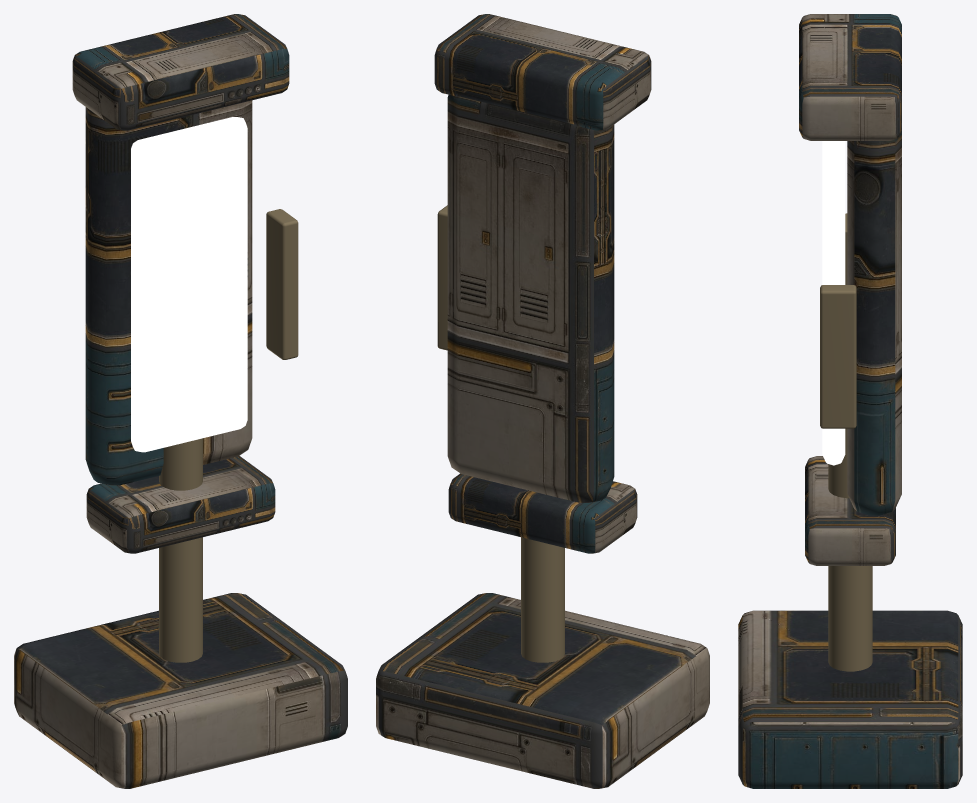
File: hp_light_residential_lamp_white.glb
3 views of the same model, side by side, from view 1: azimuth 30°, elevation 25°; view 2: azimuth 150°, elevation 25°; view 3: azimuth 270°, elevation 25° (orthographic).
Parts seen in each view (by area): view 1: weighted_floor_base, front_glowing_lens, lamp_back_housing, top_cap_dark, bottom_cap_dark, vertical_service_spine, small_side_handle; view 2: lamp_back_housing, weighted_floor_base, top_cap_dark, bottom_cap_dark, vertical_service_spine, small_side_handle; view 3: weighted_floor_base, lamp_back_housing, top_cap_dark, bottom_cap_dark, vertical_service_spine, small_side_handle, front_glowing_lens.
Boxes of the visible parts, x1,y1,x2,y2 form: weighted_floor_base: [14, 593, 347, 788]; front_glowing_lens: [131, 117, 247, 452]; lamp_back_housing: [85, 100, 252, 485]; top_cap_dark: [72, 14, 289, 130]; bottom_cap_dark: [86, 456, 275, 553]; vertical_service_spine: [159, 438, 202, 662]; small_side_handle: [266, 209, 298, 359]; lamp_back_housing: [447, 95, 614, 502]; weighted_floor_base: [376, 593, 709, 788]; top_cap_dark: [434, 14, 651, 130]; bottom_cap_dark: [448, 473, 637, 553]; vertical_service_spine: [521, 537, 564, 662]; small_side_handle: [437, 205, 447, 350]; weighted_floor_base: [738, 610, 962, 788]; lamp_back_housing: [847, 131, 901, 515]; top_cap_dark: [799, 14, 901, 140]; bottom_cap_dark: [805, 456, 895, 565]; vertical_service_spine: [828, 213, 872, 671]; small_side_handle: [820, 285, 856, 428]; front_glowing_lens: [822, 141, 845, 465].
Size of the model in its own units: 0.5264 by 1.46 by 0.4343.
Materials: 4 (3 with a texture image).
